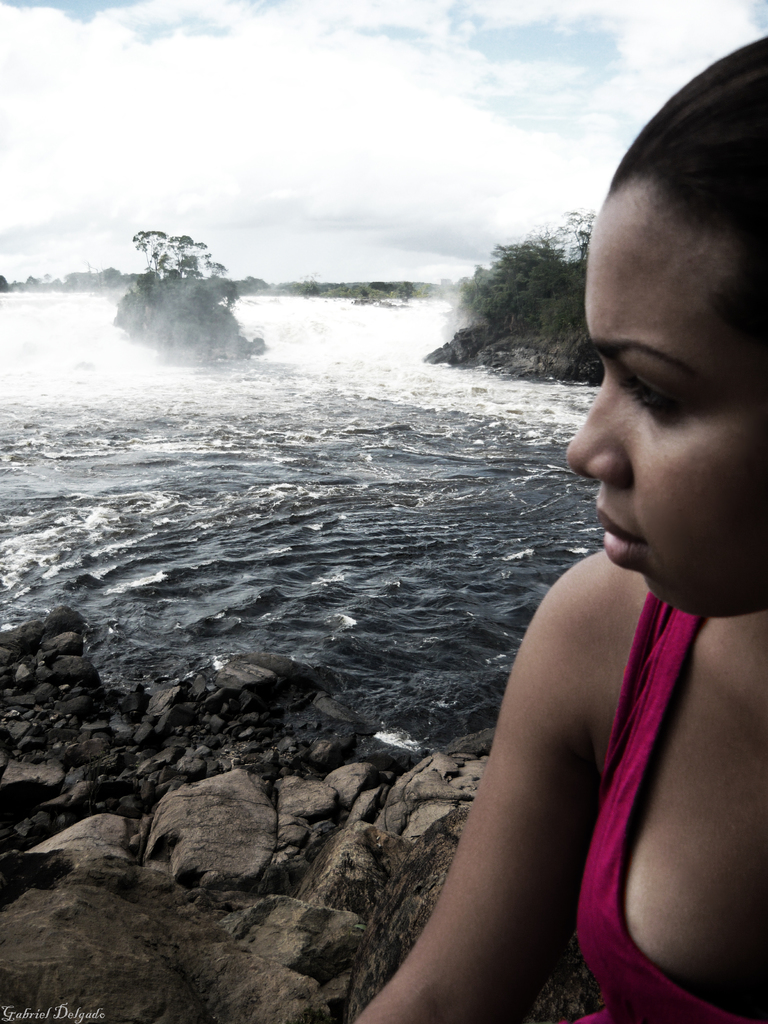Human-face: (568, 170, 767, 609)
